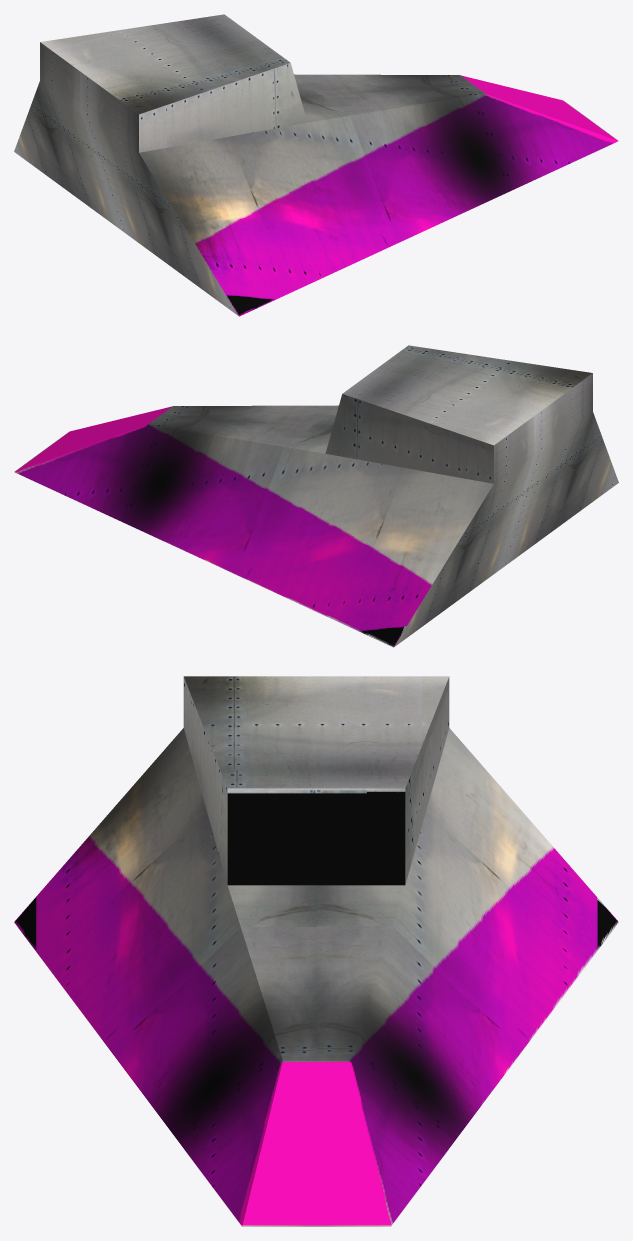
Rendered from speedBoat01_PINK.fbx.
The picture shows the model from 3 angles, top to bottom: view 1: azimuth 30°, elevation 25°; view 2: azimuth 150°, elevation 25°; view 3: azimuth 270°, elevation 25°; orthographic projection. The views are drawn at different scales.
Visible parts, largest first — view 1: pCube1; view 2: pCube1; view 3: pCube1.
Part boxes in pixels (x1,y1,x2,y2): pCube1: [14, 14, 618, 316]; pCube1: [14, 345, 618, 647]; pCube1: [14, 676, 618, 1226].
Bounding box in the file's own units: 23.99 × 7.54 × 18.65.
Materials: 1 (1 with a texture image).
